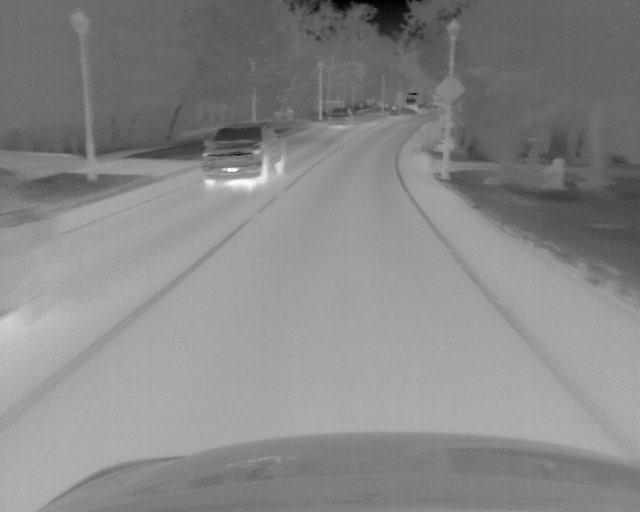car: (195, 123, 288, 187)
